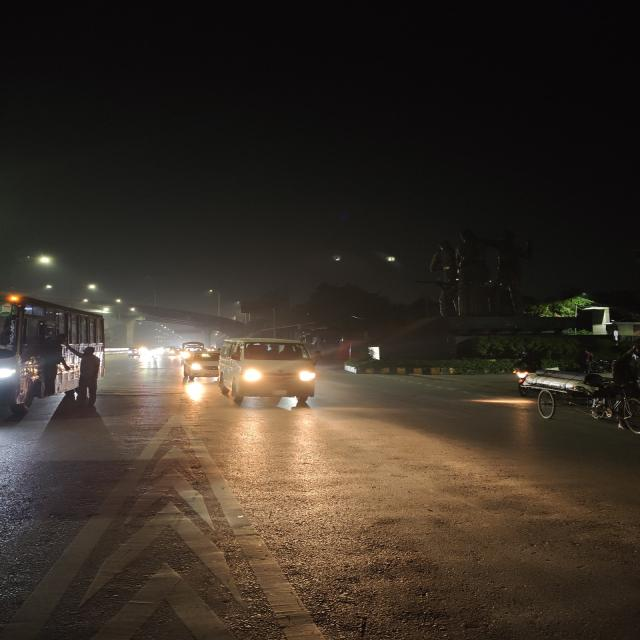bus: (0, 292, 110, 418)
car: (214, 336, 325, 412), (176, 350, 225, 384)
pedestrian: (74, 342, 102, 408)
rickshaw: (514, 339, 640, 436)
